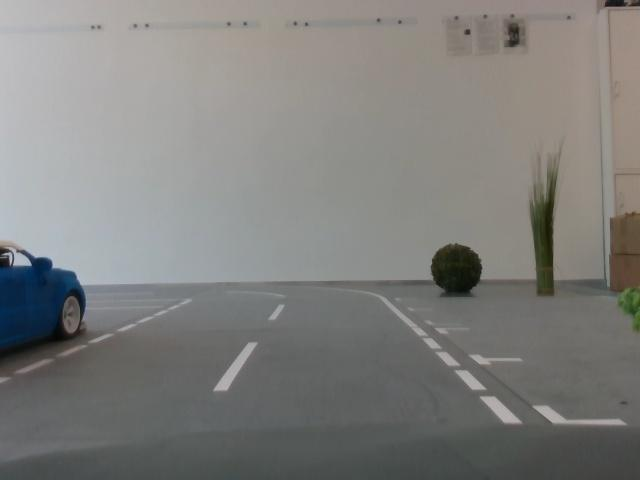car: (1, 239, 92, 347)
potted plant: (527, 136, 565, 300), (432, 244, 485, 297), (623, 284, 640, 319)
